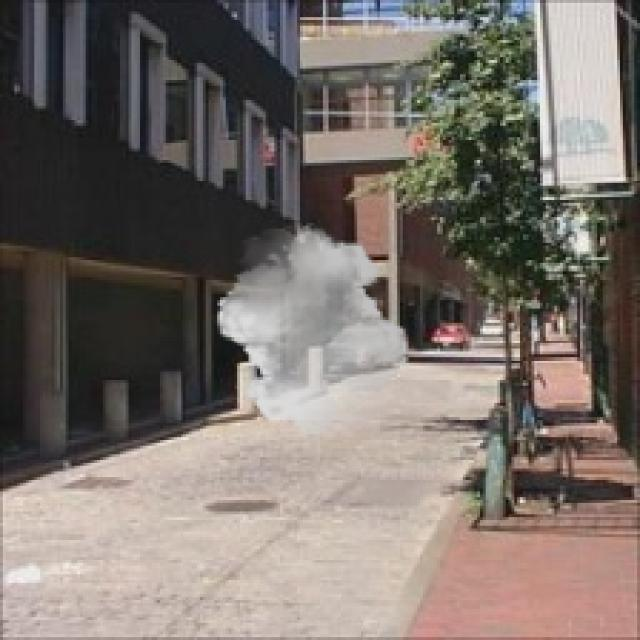smoke: (209, 223, 417, 440)
